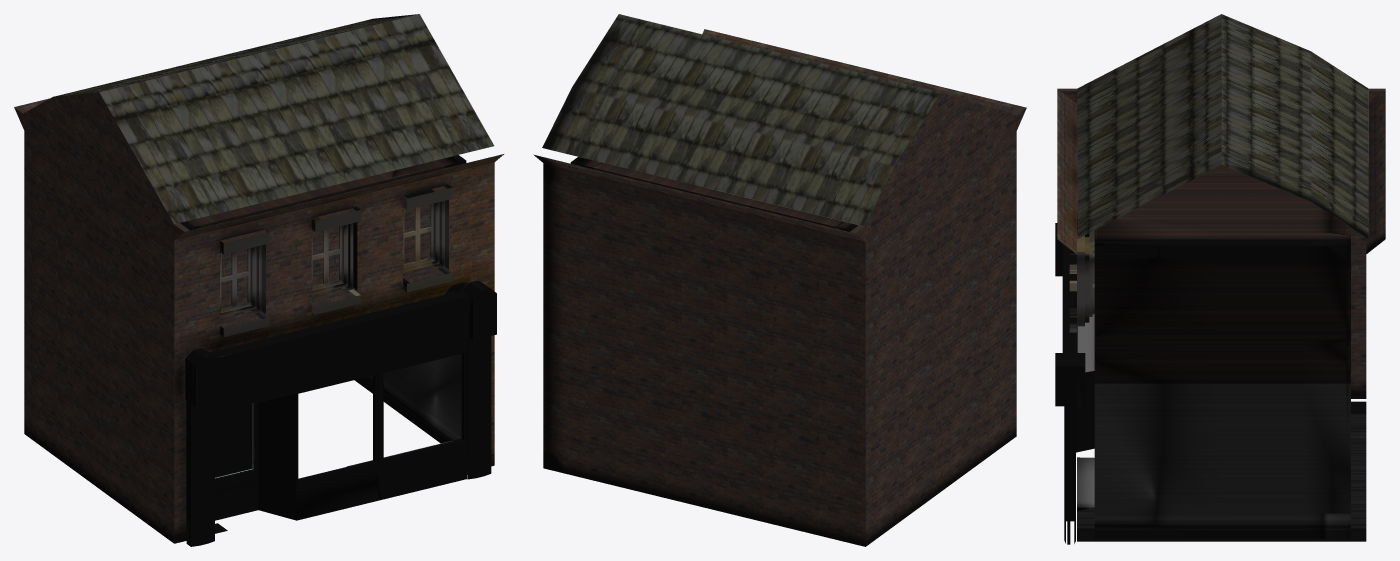
3 views of the same model, side by side, from view 1: azimuth 30°, elevation 25°; view 2: azimuth 150°, elevation 25°; view 3: azimuth 270°, elevation 25° (orthographic). The views are drawn at different scales.
Parts seen in each view (by area): view 1: Cube.004; view 2: Cube.004; view 3: Cube.004.
Boxes of the visible parts, left/top/right/bottom form: Cube.004: left=14, top=14, right=503, bottom=546; Cube.004: left=533, top=14, right=1026, bottom=546; Cube.004: left=1055, top=14, right=1385, bottom=544.
Bounding box in the file's own units: 22294 × 26491 × 20669.
1 material, 1 textured.
